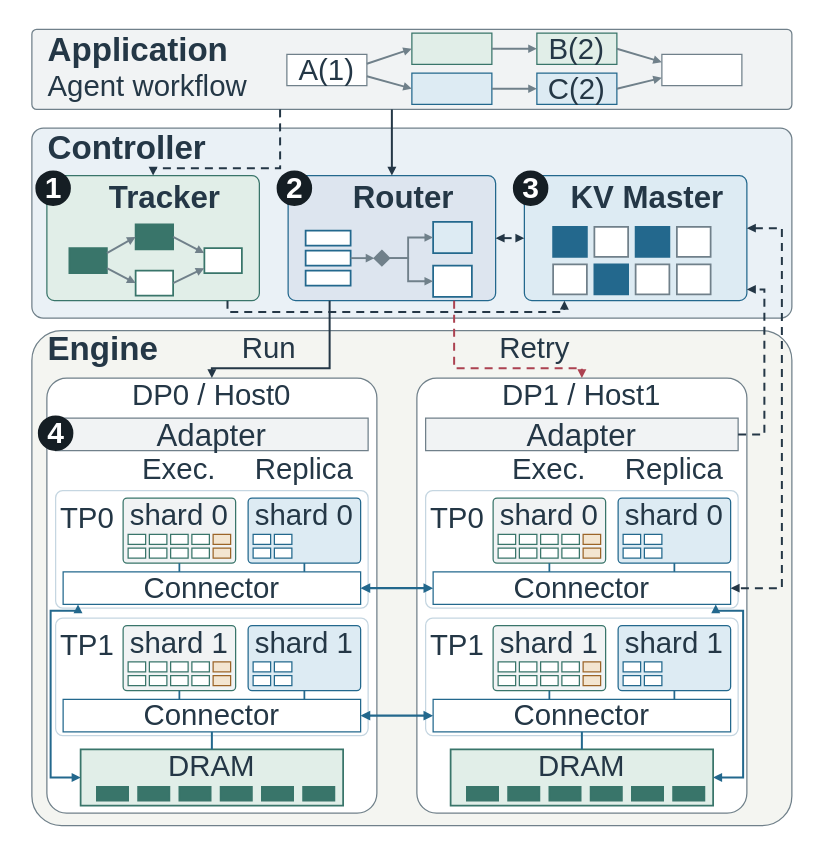
Some shapes in this 823 by 855 pixel diagram are drawn without their labels. The shapes that lost their labels are listed below. From the top down, each one's centre as x and y in pixels, then its label:
At pixel 451 48: "B(1)".
At pixel 451 88: "C(1)".
At pixel 701 69: "D(1)".
